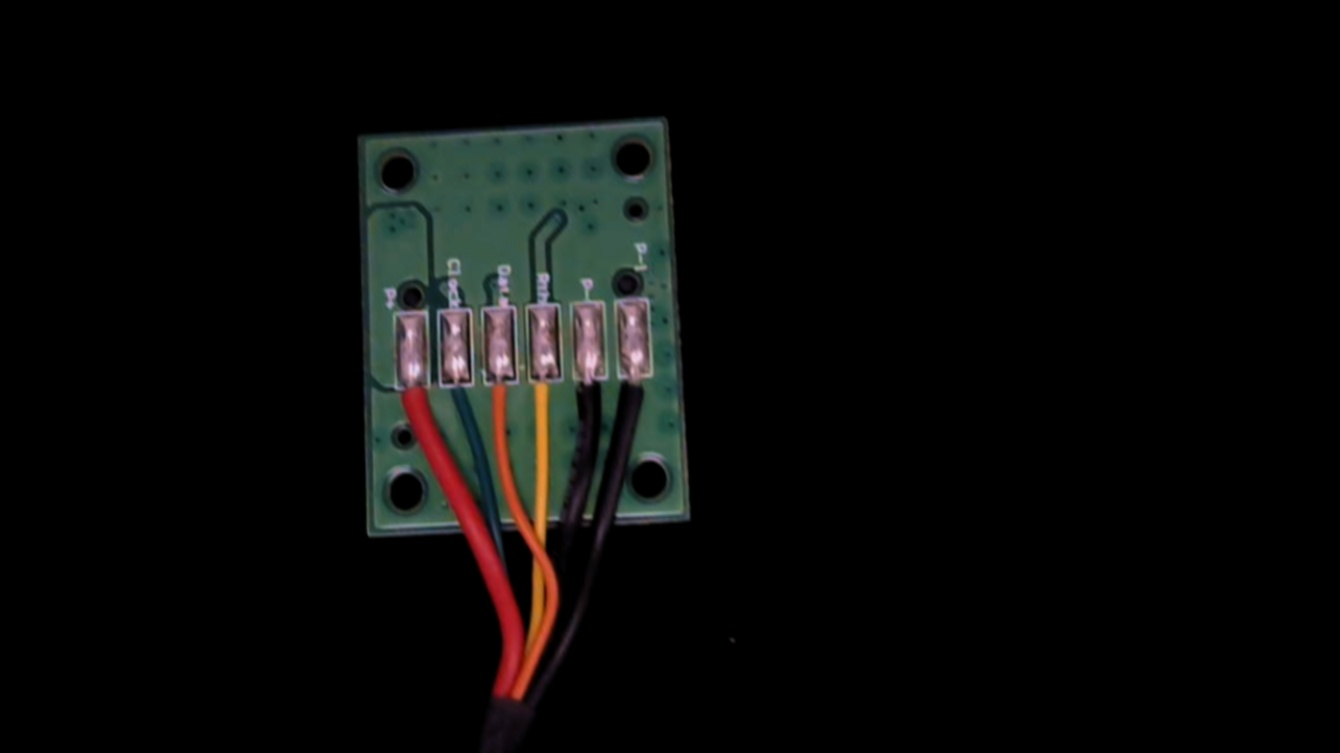Black: (572, 357, 605, 438)
Black1: (617, 355, 653, 430)
Green: (437, 362, 470, 442)
Orange: (482, 360, 513, 439)
Red: (393, 364, 432, 451)
Yellow: (526, 359, 562, 437)
